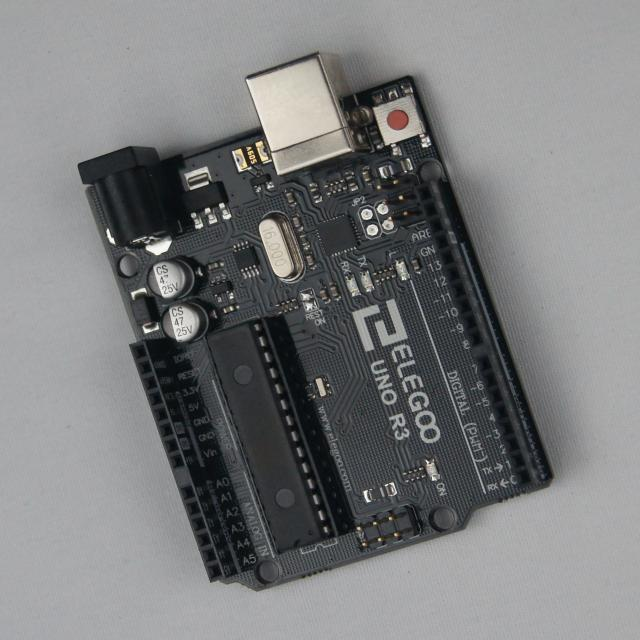Arduino Uno -Black-: (79, 54, 552, 588)
